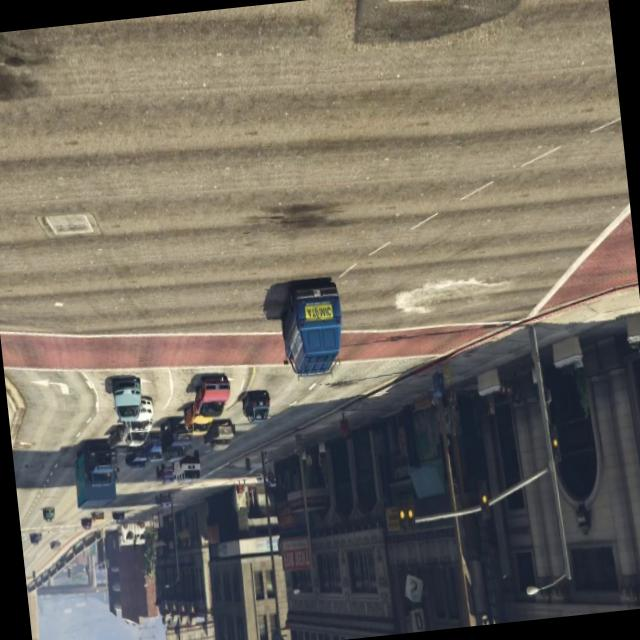Yellow-Signal: (392, 481, 421, 542), (544, 409, 568, 473), (474, 467, 495, 526)
